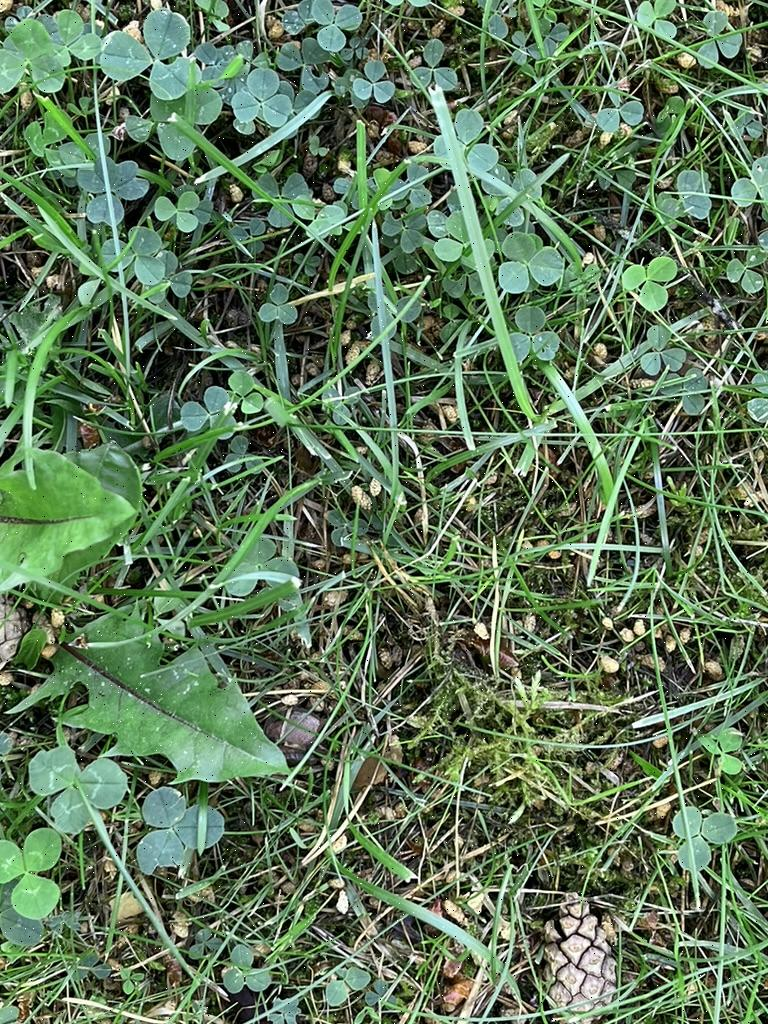pine: (531, 875, 636, 1024), (0, 588, 38, 710)
